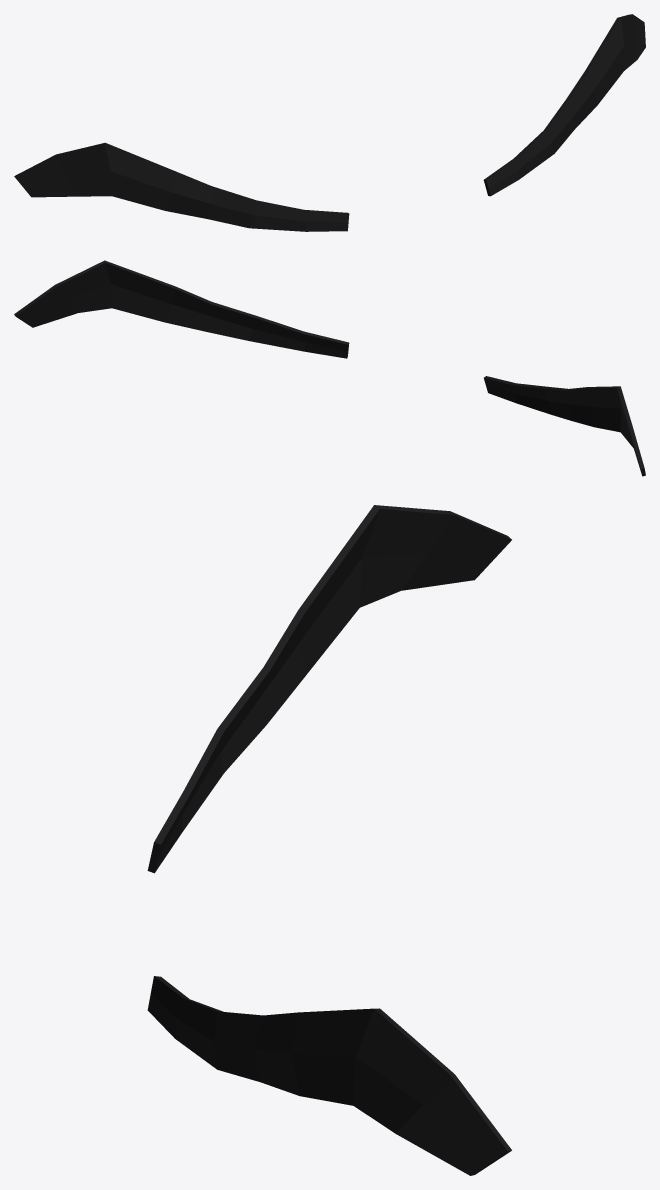
Rendered from vampire eyebrows.fbx.
3 renders of one model, top to bottom at view 1: azimuth 30°, elevation 25°; view 2: azimuth 150°, elevation 25°; view 3: azimuth 270°, elevation 25°, orthographic. The views are drawn at different scales.
Visible parts, largest first — view 1: Plane001; view 2: Plane001; view 3: Plane001.
Boxes of the visible parts, x1,y1,x2,y2 form: Plane001: [14, 14, 645, 231]; Plane001: [14, 260, 645, 476]; Plane001: [147, 505, 511, 1175].
Bounding box in the file's own units: 5.77 × 0.8104 × 1.44.
1 material, 1 textured.
